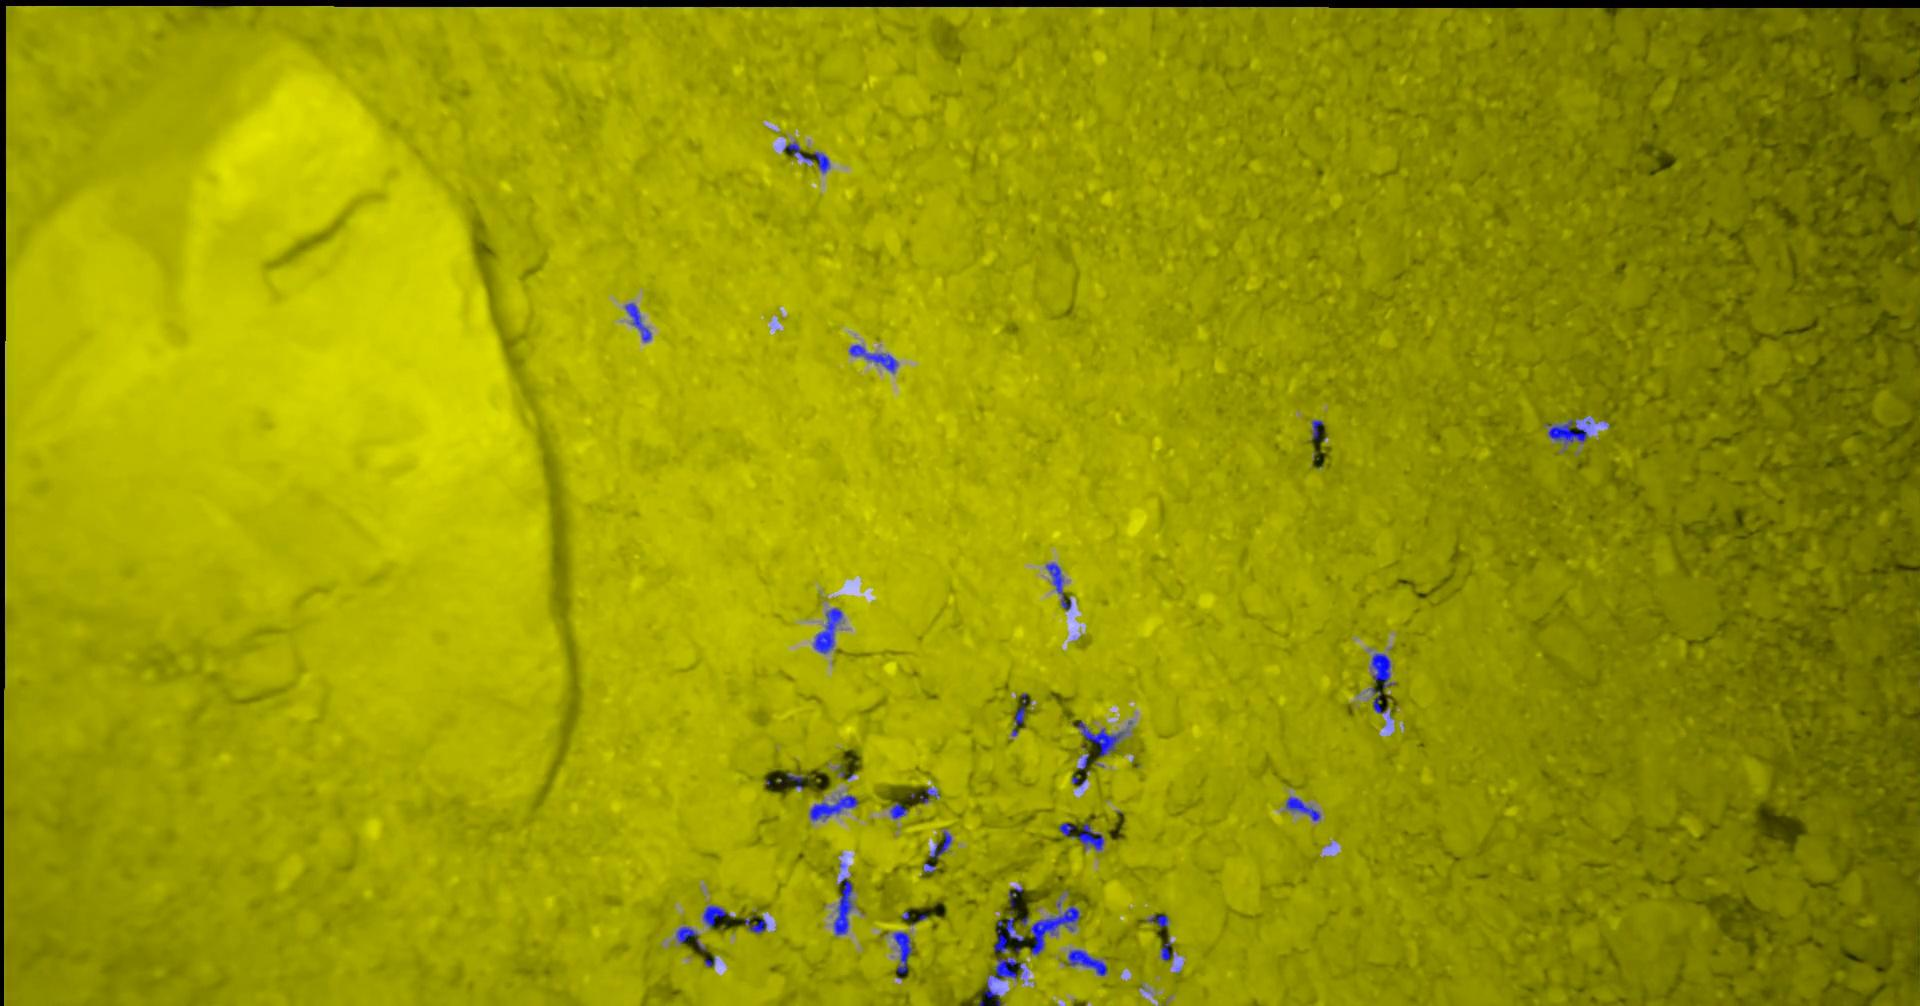ant: (1029, 906, 1079, 954), (1076, 720, 1125, 757), (782, 141, 829, 171), (813, 607, 842, 653), (1058, 821, 1103, 850), (993, 909, 1023, 953), (850, 344, 897, 372), (809, 795, 857, 821), (1046, 563, 1070, 608), (833, 876, 852, 934), (1067, 949, 1106, 976), (623, 304, 650, 340), (893, 931, 912, 978), (1547, 420, 1587, 442), (1285, 796, 1321, 821), (1371, 653, 1394, 687), (990, 956, 1022, 979), (676, 926, 705, 950), (1011, 694, 1026, 735), (702, 904, 731, 926), (930, 829, 951, 857), (1369, 686, 1385, 713), (983, 981, 999, 1005), (744, 918, 766, 934), (889, 801, 907, 818), (919, 788, 938, 803), (785, 772, 803, 788), (1008, 888, 1023, 906), (1161, 941, 1173, 960), (1312, 420, 1323, 439), (1148, 915, 1167, 926)
